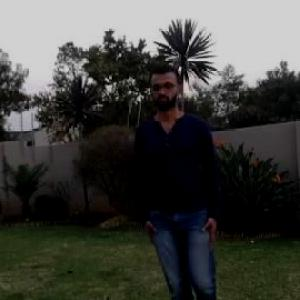follow: (144, 60, 216, 299)
